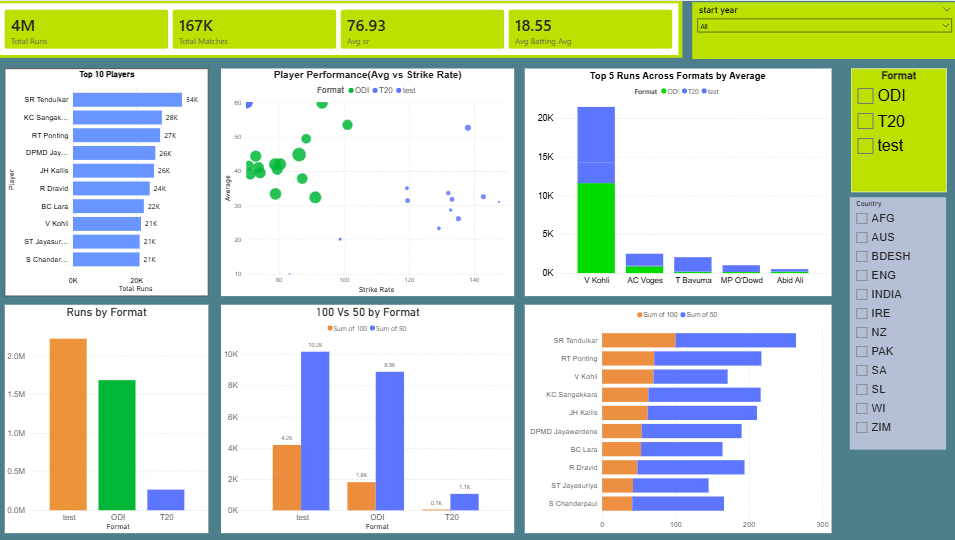

Layout of this report page (visuals, bound fields, positions):
{"tool":"powerbi","page":{"name":"Page 6","canvas":[1920,1080],"ordinal":5},"visuals":[{"type":"cardVisual","fields":{"Data":["Append1.Total Runs","Append1.Total Matches","Append1.Avg sr","Append1.Avg Batting Avg"]},"box":[0,0,1372.9,113.2],"z":0},{"type":"clusteredBarChart","title":"Top 10 Players","fields":{"Category":["Append1.Player"],"Y":["Append1.Total Runs"]},"box":[17.5,135,407.5,455],"z":1000},{"type":"slicer","title":"Format","fields":{"Values":["Append1.Format"]},"box":[1710.5,135.8,191.4,247],"z":2000},{"type":"clusteredColumnChart","title":"Runs by Format","fields":{"Category":["Append1.Format"],"Y":["Append1.Total Runs"]},"box":[18.5,607.2,407.5,456.9],"z":3000},{"type":"scatterChart","title":"Player Performance(Avg vs Strike Rate)","fields":{"X":["Append1.Strike Rate"],"Y":["Append1.Average"],"Size":["Sum(Append1.Runs)"],"Series":["Append1.Format"]},"box":[450.8,135.8,586.6,454.9],"z":4000},{"type":"slicer","title":"COUNTRY","fields":{"Values":["Append1.Country"]},"box":[1707.5,392.5,192.5,505],"z":5000},{"type":"lineStackedColumnComboChart","title":"Top 5 Runs Across Formats by Average","fields":{"Category":["Append1.Player"],"Y":["Sum(Append1.Runs)"],"Series":["Append1.Format"]},"box":[1058,135.8,613.4,454.9],"z":6000},{"type":"slicer","fields":{"Values":["Append1.start year"]},"box":[1391.4,2.1,529,113.2],"z":7000},{"type":"barChart","fields":{"Category":["Append1.Player"],"Y":["Sum(Append1.100)","Sum(Append1.50)"]},"box":[1058,607.2,613.4,456.9],"z":8000},{"type":"clusteredColumnChart","title":"100 Vs 50 by Format","fields":{"Category":["Append1.Format"],"Y":["Sum(Append1.100)","Sum(Append1.50)"]},"box":[450.8,607.2,586.6,456.9],"z":9000}]}

Visuals, with their boxes in screenshot pixels (x1, y1, x2, y2), scaled from the page's 1920x1080 canvas onto the 955x540 screenshot:
cardVisual - Append1.Total Runs x Append1.Total Matches: bbox=[0, 0, 683, 57]
"Top 10 Players" clusteredBarChart: bbox=[9, 68, 211, 295]
"Format" slicer: bbox=[851, 68, 946, 191]
"Runs by Format" clusteredColumnChart: bbox=[9, 304, 212, 532]
"Player Performance(Avg vs Strike Rate)" scatterChart: bbox=[224, 68, 516, 295]
"COUNTRY" slicer: bbox=[849, 196, 945, 449]
"Top 5 Runs Across Formats by Average" lineStackedColumnComboChart: bbox=[526, 68, 831, 295]
slicer - Append1.start year: bbox=[692, 1, 954, 58]
barChart - Append1.Player x Sum(Append1.100): bbox=[526, 304, 831, 532]
"100 Vs 50 by Format" clusteredColumnChart: bbox=[224, 304, 516, 532]
